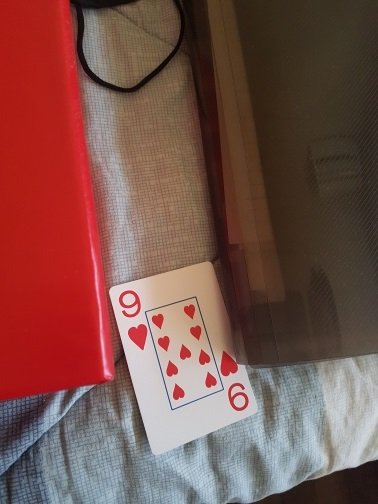nine: (108, 261, 263, 455)
